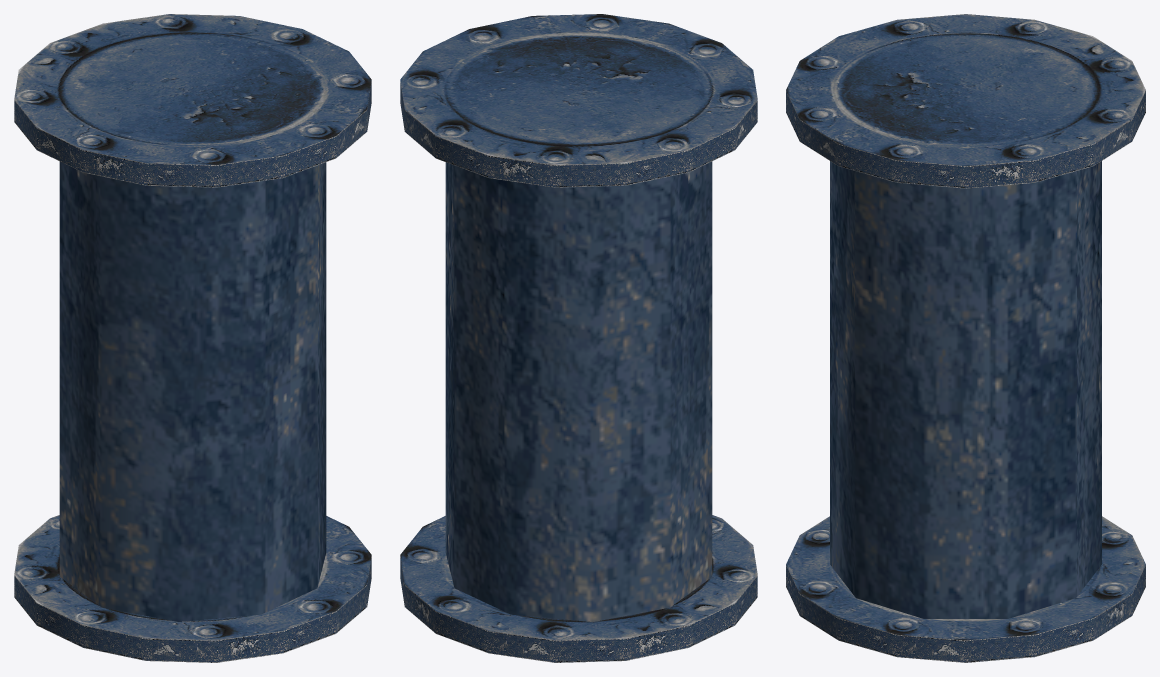
The model's file is 1m_blue.DAE.
3 views of the same model, side by side, from view 1: azimuth 30°, elevation 25°; view 2: azimuth 150°, elevation 25°; view 3: azimuth 270°, elevation 25° (orthographic).
Parts seen in each view (by area): view 1: Object360, Object368; view 2: Object360, Object368; view 3: Object360, Object368.
Boxes of the visible parts, x1,y1,x2,y2 form: Object360: (59, 161, 326, 621); Object368: (14, 14, 371, 662); Object360: (445, 161, 712, 621); Object368: (400, 14, 757, 662); Object360: (830, 161, 1101, 618); Object368: (786, 14, 1145, 662).
Size of the model in its own units: 0.6566 by 0.6566 by 1.
